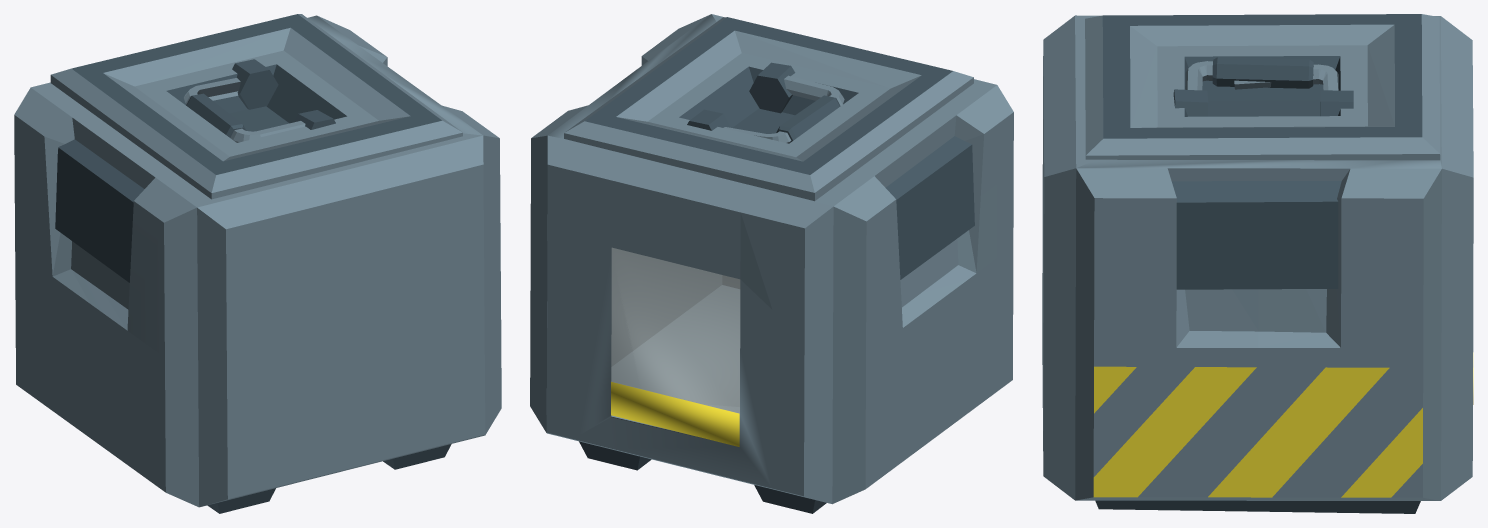
File: Scifi Crate.fbx
3 renders of one model, left to right at view 1: azimuth 30°, elevation 25°; view 2: azimuth 150°, elevation 25°; view 3: azimuth 270°, elevation 25°, orthographic. The views are drawn at different scales.
Visible parts, largest first — view 1: Scifi Crate; view 2: Scifi Crate; view 3: Scifi Crate.
Boxes of the visible parts, x1,y1,x2,y2 form: Scifi Crate: [14, 14, 501, 513]; Scifi Crate: [530, 14, 1013, 513]; Scifi Crate: [1042, 14, 1473, 513].
Size of the model in its own units: 0.42 by 0.4066 by 0.4191.
